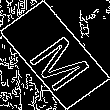M_NE: (18, 21, 92, 89)
